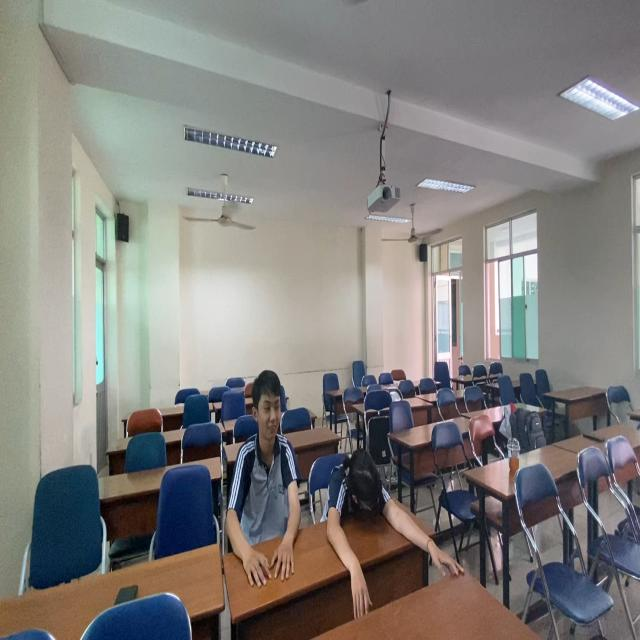sleep: (315, 451, 424, 564)
